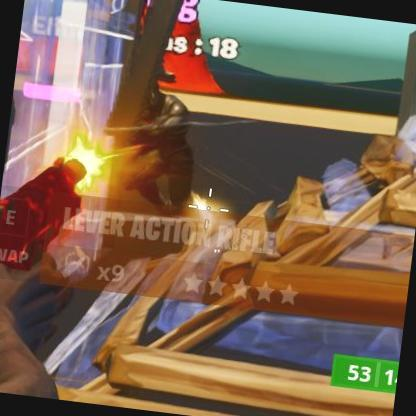person: (98, 72, 216, 240)
